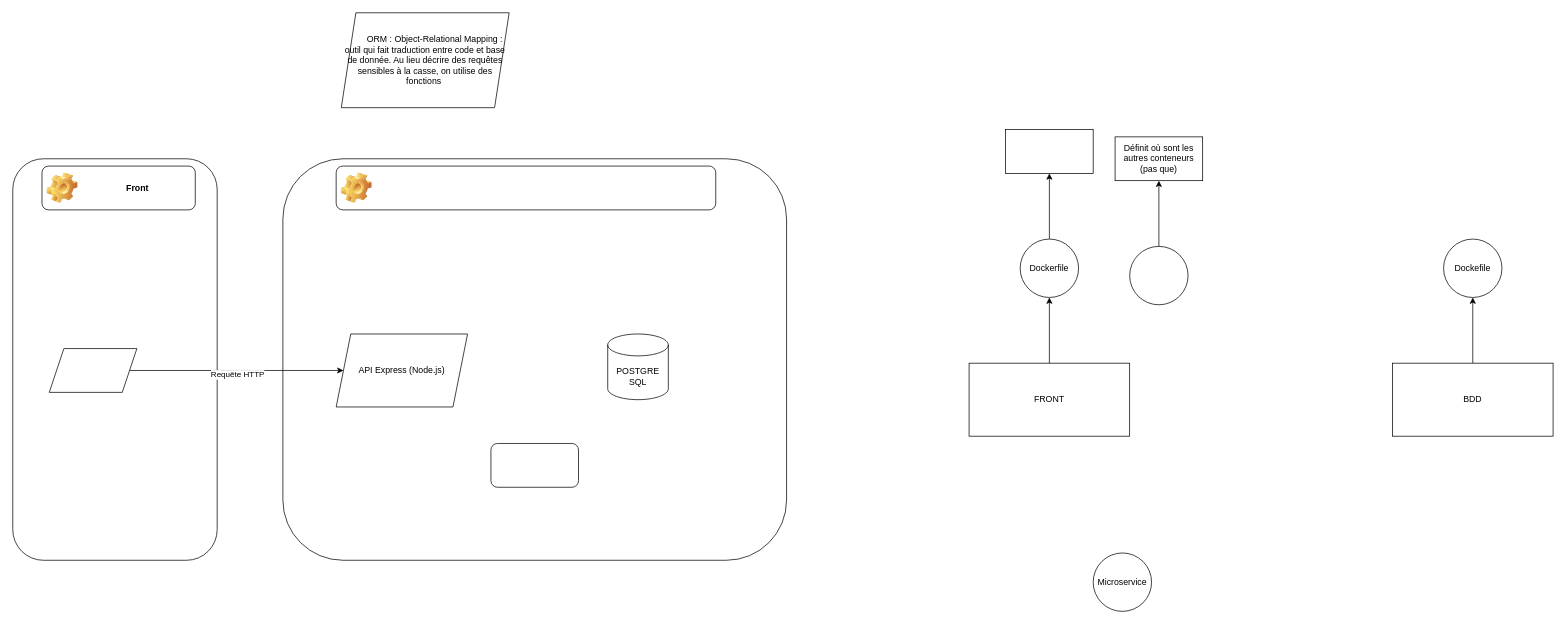
This 1566x624 diagram has some shape labels left out. Each missing label, with the centre of its shape:
"Back" belongs at pixel 525 187.
"Docker compose" belongs at pixel 1158 275.
"ORM : PRISMA" belongs at pixel 534 465.
"Permet de configurer et install tout ce qu'il faut sur l'image" belongs at pixel 1049 151.
"React" belongs at pixel 93 370.
